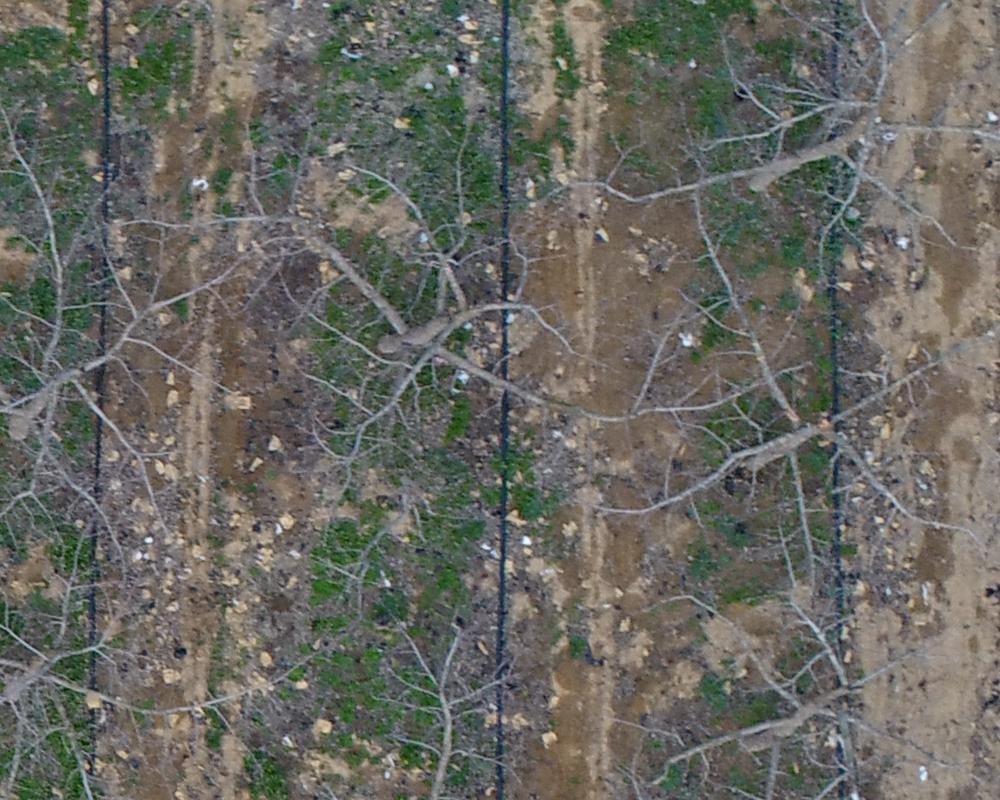apple: (176, 118, 817, 450), (601, 141, 990, 580), (551, 10, 990, 282), (10, 89, 250, 580), (626, 537, 990, 790), (10, 525, 266, 790)
